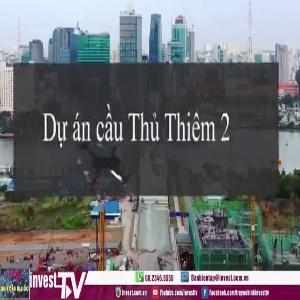drone: (42, 106, 164, 228)
